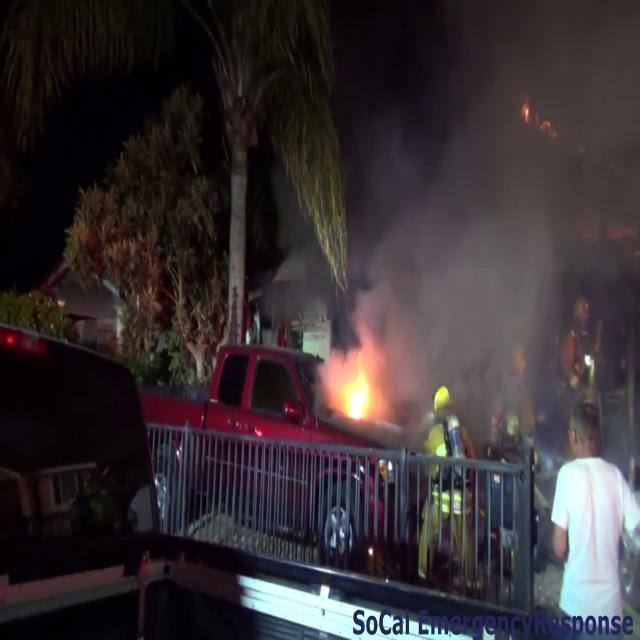Fire: (326, 340, 386, 432)
Smoke: (336, 0, 640, 379)
